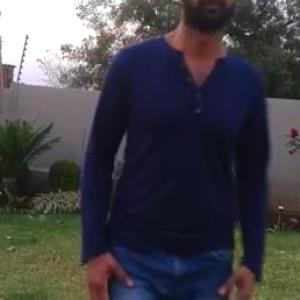follow: (87, 0, 244, 299)
